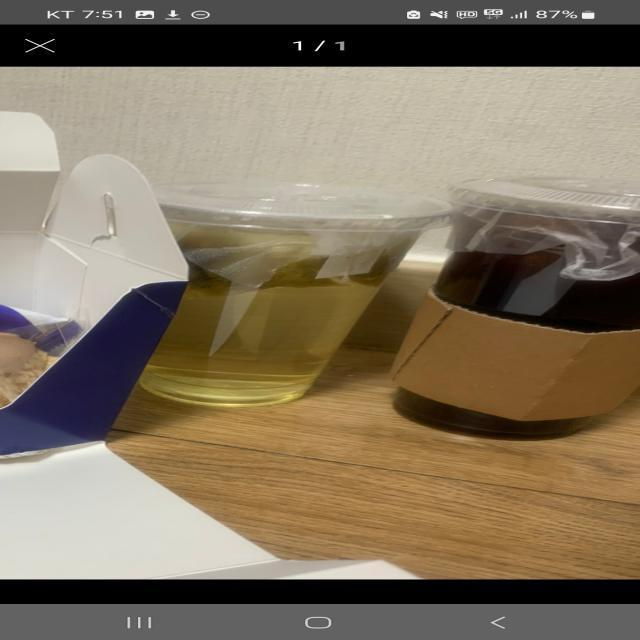cup: (96, 152, 468, 426)
